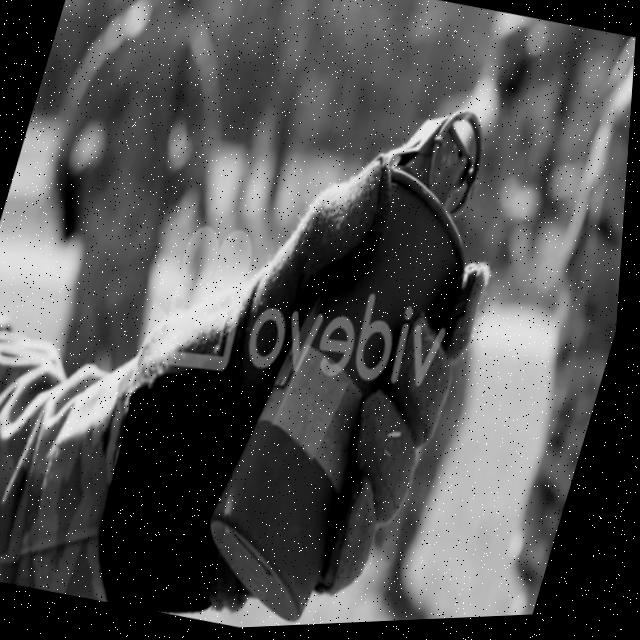grenade: (165, 67, 554, 633)
